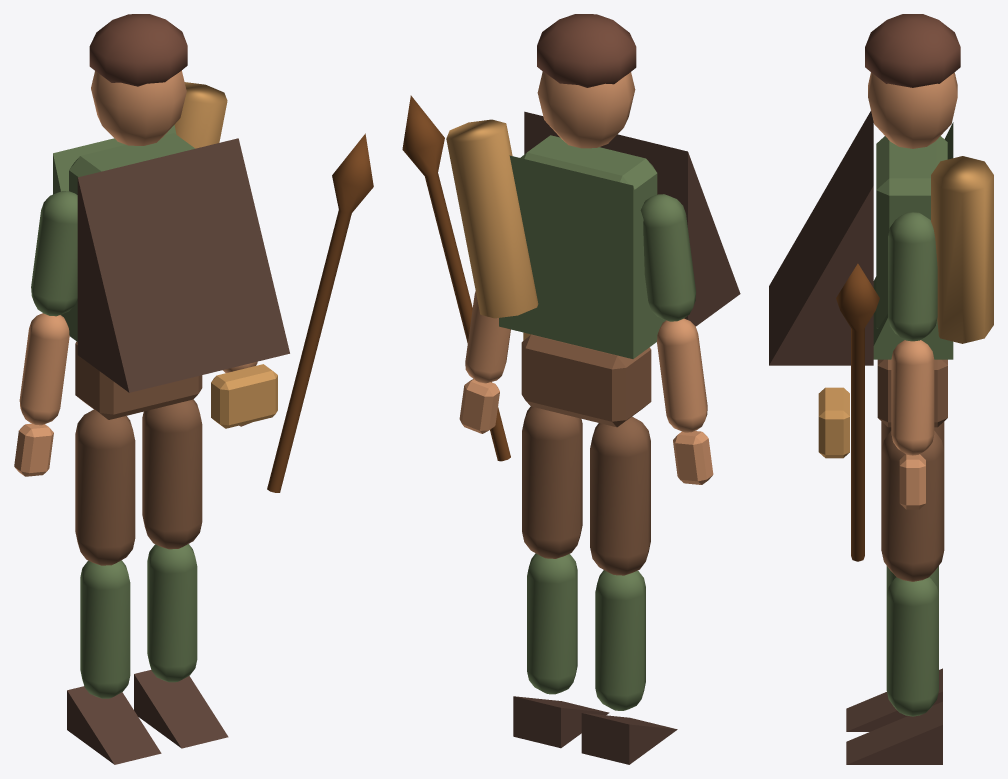
Rendered from adventurer.rustic.glb.
3 views of the same model, side by side, from view 1: azimuth 30°, elevation 25°; view 2: azimuth 150°, elevation 25°; view 3: azimuth 270°, elevation 25° (orthographic).
Visible parts, largest first — view 1: accessory.body, thigh.left, thigh.right, shin.right, shin.left, accessory.main-hand, hair, head, upper-arm.left, foot.left, foot.right, forearm.left (+6 smaller); view 2: tunic, accessory.back, pelvis, thigh.left, thigh.right, accessory.body, shin.right, shin.left, hair, upper-arm.left, head, accessory.main-hand (+7 smaller); view 3: accessory.body, accessory.back, thigh.right, shin.right, upper-arm.right, hair, torso, accessory.main-hand, head, forearm.right, foot.right, accessory.waist (+4 smaller).
Part boxes in pixels (x1,y1,x2,y2): accessory.body: (77,138,289,392); thigh.left: (75,409,135,565); thigh.right: (142,399,202,549); shin.right: (147,544,197,682); shin.left: (80,560,130,698); accessory.main-hand: (267,133,373,492); hair: (89,14,187,86); head: (91,70,186,145); upper-arm.left: (31,191,77,316); foot.left: (67,686,161,764); foot.right: (134,670,228,748); forearm.left: (19,313,69,425); tunic: (499,155,665,358); accessory.back: (446,119,538,318); pelvis: (521,334,651,427); thigh.left: (590,416,650,575); thigh.right: (522,406,582,558); accessory.body: (524,111,740,326); shin.right: (527,553,577,694); shin.left: (595,570,645,710); hair: (537,14,636,87); upper-arm.left: (640,194,695,321); head: (537,71,635,148); accessory.main-hand: (402,95,510,461); accessory.body: (769,111,873,365); accessory.back: (931,156,993,343); thigh.right: (881,431,944,581); shin.right: (886,577,938,716); upper-arm.right: (888,212,937,341); hair: (865,14,960,87); torso: (876,136,947,328); accessory.main-hand: (836,263,879,561); head: (868,72,957,148); forearm.right: (891,340,934,455); foot.right: (846,701,942,764); accessory.waist: (818,387,849,458).
Size of the model in its own units: 1.47 by 3.03 by 0.86.
